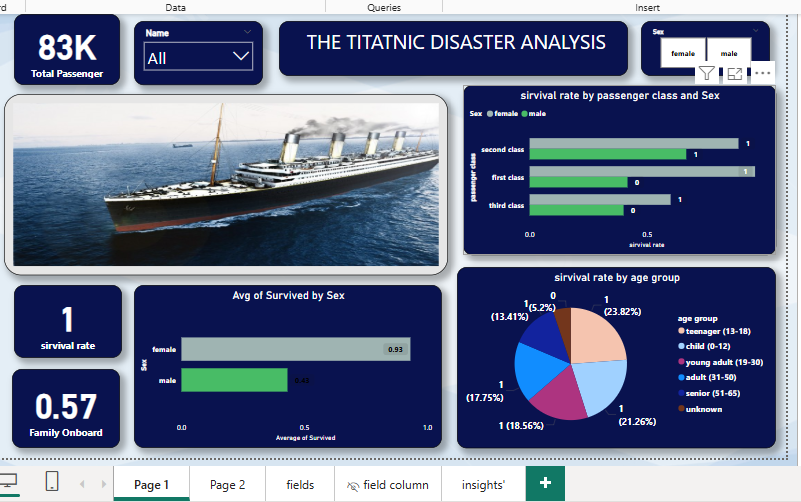

This screenshot's page, from the dashboard's own definition file:
{"tool":"powerbi","page":{"name":"Page 1","canvas":[1280,720],"ordinal":0},"visuals":[{"type":"textbox","box":[457.3,11.4,565.9,89.2],"z":0},{"type":"card","fields":{"Values":["Titanic dataset.sirvival rate"]},"box":[27.6,439.5,175.1,118.4],"z":1000},{"type":"clusteredBarChart","title":"Avg of Survived by Sex","fields":{"Y":["Titanic dataset.Survived"],"Category":["Titanic dataset.Sex"]},"box":[222.2,439.5,499.5,264.3],"z":2000},{"type":"pieChart","fields":{"Category":["Titanic dataset.age group"],"Y":["Titanic dataset.sirvival rate"]},"box":[745.9,410.3,517.3,293.5],"z":3000},{"type":"card","fields":{"Values":["Titanic dataset.Family Onboard"]},"box":[24.3,575.7,175.1,128.1],"z":4000},{"type":"slicer","fields":{"Values":["Titanic dataset.Sex"]},"box":[1044.3,11.4,209.2,89.2],"z":5000},{"type":"slicer","fields":{"Values":["Titanic dataset.Name"]},"box":[222.2,11.4,209.2,103.8],"z":6000},{"type":"card","fields":{"Values":["Titanic dataset.PassengerId"]},"box":[27.6,0,171.9,115.1],"z":7000},{"type":"clusteredBarChart","fields":{"Y":["Titanic dataset.sirvival rate"],"Category":["Titanic dataset.passenger class"],"Series":["Titanic dataset.Sex"]},"box":[755.7,115.1,507.6,275.7],"z":8000},{"type":"image","box":[11.4,129.7,720,293.5],"z":9000}]}

Visuals, with their boxes in screenshot pixels (x1, y1, x2, y2):
textbox: <region>276, 20, 625, 75</region>
card - Titanic dataset.sirvival rate: <region>11, 284, 119, 357</region>
"Avg of Survived by Sex" clusteredBarChart: <region>131, 284, 439, 447</region>
pieChart - Titanic dataset.age group x Titanic dataset.sirvival rate: <region>454, 266, 773, 447</region>
card - Titanic dataset.Family Onboard: <region>9, 368, 117, 447</region>
slicer - Titanic dataset.Sex: <region>638, 20, 767, 75</region>
slicer - Titanic dataset.Name: <region>131, 20, 260, 84</region>
card - Titanic dataset.PassengerId: <region>11, 13, 117, 84</region>
clusteredBarChart - Titanic dataset.sirvival rate x Titanic dataset.passenger class: <region>460, 84, 773, 254</region>
image: <region>1, 93, 445, 274</region>
